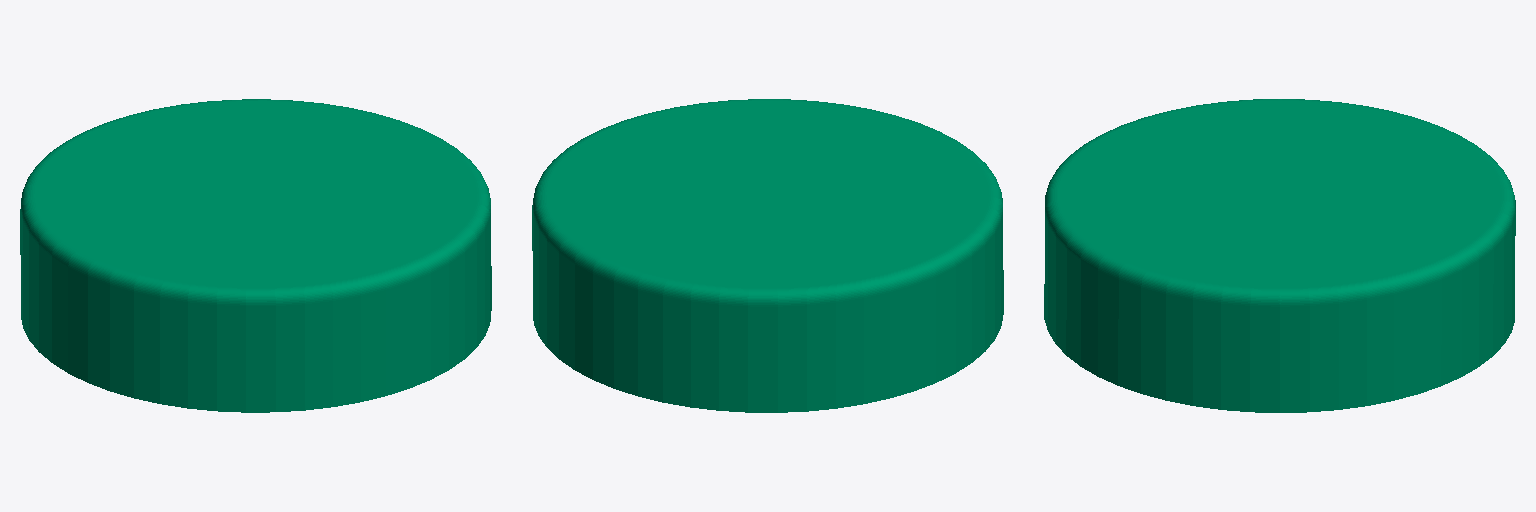
URDF robot description (milk):
<?xml version="0.0" ?>
<robot name="milk">

  <link name="base_link">
    <inertial>
      <origin rpy="0 0 0" xyz="0 0 0"/>
       <mass value=".0"/>
       <inertia ixx="0" ixy="0" ixz="0" iyy="0" iyz="0" izz="0"/>
    </inertial>
  </link>

  <link name="obj">
    <inertial>
      <origin rpy="0 0 0" xyz="0 0 0"/>
       <mass value=".0"/>
       <inertia ixx="0" ixy="0" ixz="0" iyy="0" iyz="0" izz="0"/>
    </inertial>
    <visual>
      <origin rpy="1.57 0 0" xyz="0 0 0"/>
      <geometry>
        <mesh filename="package://uwds3/models/cad_models/obj/milk1.obj" scale="0.13 0.13 0.13"/>
      </geometry>
    </visual>
  </link>

  <joint name="base_to_obj" type="revolute">
    <parent link="base_link"/>
    <child link="obj"/>
    <axis xyz="0 0 1"/>
    <limit effort="1000.0" lower="0.0" upper="1.57" velocity="0.5"/>
    <origin rpy="0 0 0" xyz="0 0 0"/>
  </joint>


  <link name="obj2">
    <inertial>
      <origin rpy="0 0 0" xyz="0 0 0"/>
       <mass value=".0"/>
       <inertia ixx="0" ixy="0" ixz="0" iyy="0" iyz="0" izz="0"/>
    </inertial>
    <visual>
      <origin rpy="1.57 0 0" xyz="0 0 0"/>
      <geometry>
        <mesh filename="package://uwds3/models/cad_models/obj/milk2.obj" scale="0.13 0.13 0.13"/>
      </geometry>
    </visual>
  </link>

  <joint name="base_to_obj2" type="revolute">
    <parent link="obj"/>
    <child link="obj2"/>
    <axis xyz="0 0 1"/>
    <limit effort="1000.0" lower="0.0" upper="1.57" velocity="0.5"/>
    <origin rpy="0 0 0" xyz="0 0 0"/>
  </joint>


</robot>

--- What the picture shows (computed from the rendered views, not written in the file) ---
Views: 3 orthographic renders of the robot side by side, from view 1: azimuth 30°, elevation 25°; view 2: azimuth 150°, elevation 25°; view 3: azimuth 270°, elevation 25°.
Model milk with 3 links and 2 joints (2 revolute), rooted at base_link, posed all joints at 0.
Links seen in each view (by area): view 1: obj2; view 2: obj2; view 3: obj2.
Boxes of the visible links, bbox=[...] form: obj2: bbox=[20, 99, 491, 412]; obj2: bbox=[532, 99, 1003, 412]; obj2: bbox=[1044, 99, 1515, 412].
Size in the robot's own frame: 0.0744 by 0.0742 by 0.0207 metres.
1 mesh visuals loaded from 2 distinct referenced files (1 OBJ); not drawn: 1 (reference not matched to a file when rendering).